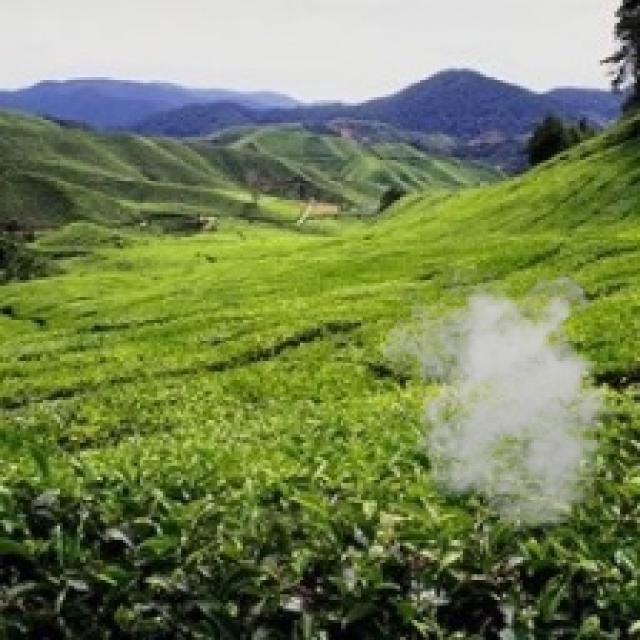Smoke: (383, 268, 634, 532)
